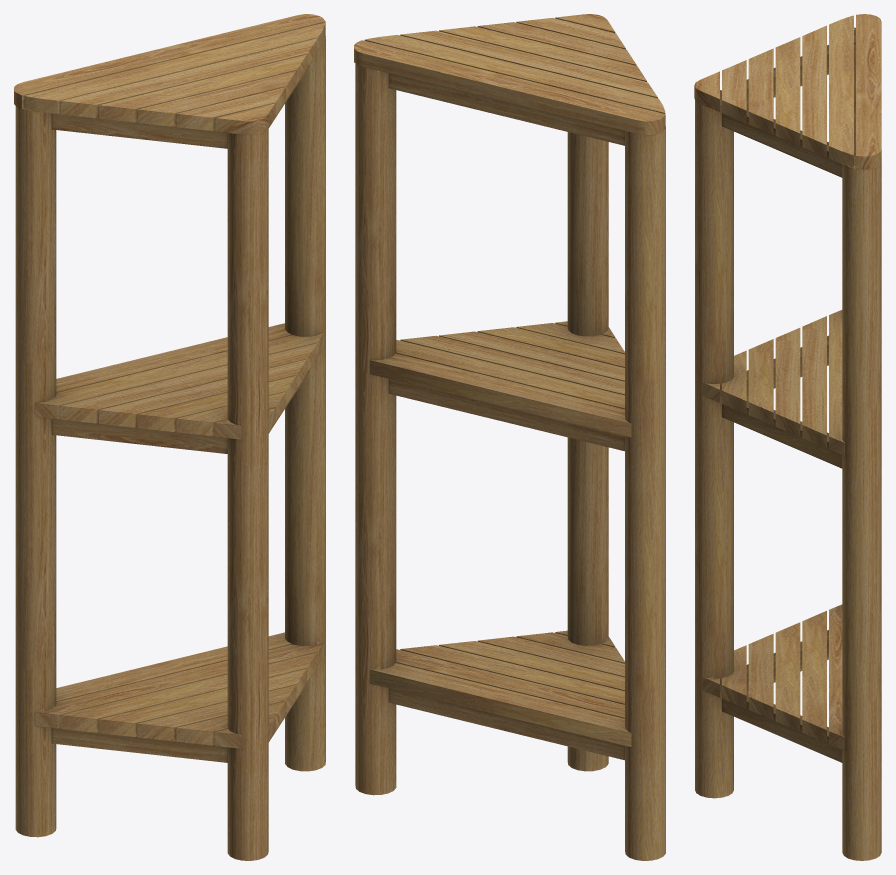
The model's file is 3tier.glb.
The picture shows the model from 3 angles, left to right: view 1: azimuth 30°, elevation 25°; view 2: azimuth 150°, elevation 25°; view 3: azimuth 270°, elevation 25°; orthographic projection. The views are drawn at different scales.
Visible parts, largest first — view 1: 3 Tier_low; view 2: 3 Tier_low; view 3: 3 Tier_low.
Boxes of the visible parts, x1=… form: 3 Tier_low: x1=14, y1=14, x2=325, y2=860; 3 Tier_low: x1=354, y1=14, x2=665, y2=860; 3 Tier_low: x1=694, y1=14, x2=881, y2=860.
Bounding box in the file's own units: 0.3986 × 0.9184 × 0.2213.
1 material, 1 textured.
